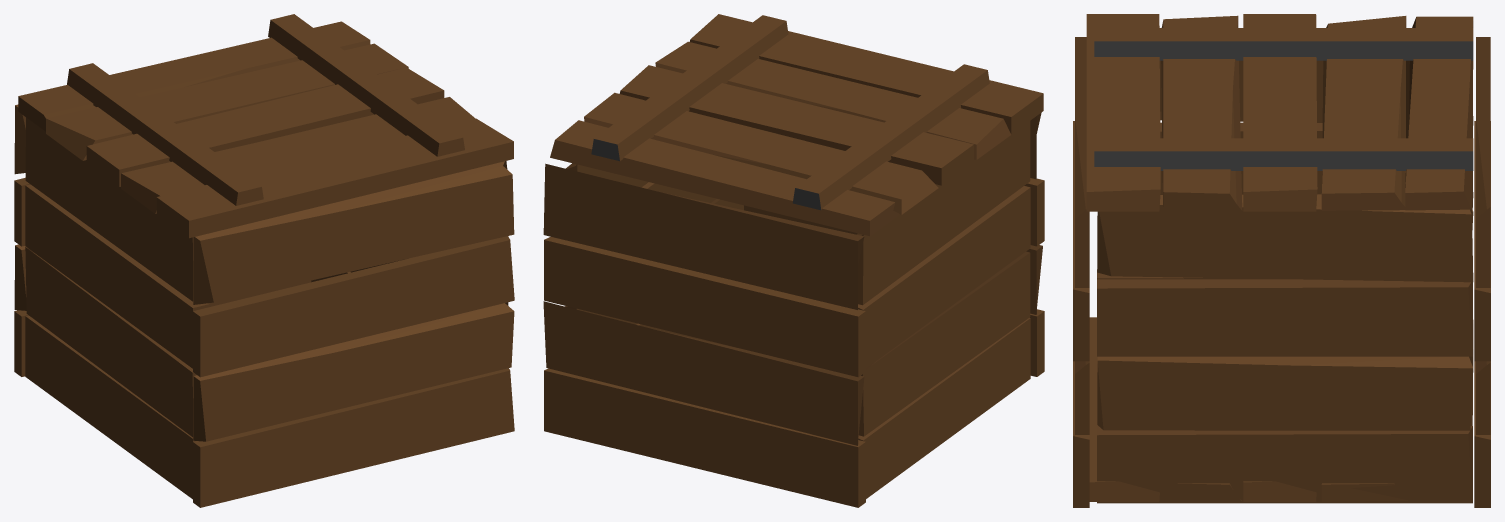
Rendered from SM_wooden_box_02.fbx.
3 renders of one model, left to right at view 1: azimuth 30°, elevation 25°; view 2: azimuth 150°, elevation 25°; view 3: azimuth 270°, elevation 25°, orthographic. The views are drawn at different scales.
Visible parts, largest first — view 1: Object509; view 2: Object509; view 3: Object509.
Boxes of the visible parts, x1,y1,x2,y2 form: Object509: [14, 14, 514, 507]; Object509: [543, 14, 1044, 507]; Object509: [1073, 14, 1490, 507].
Bounding box in the file's own units: 43.01 × 37.48 × 42.55.
